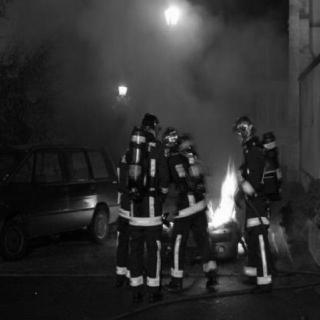other: (108, 128, 202, 282)
